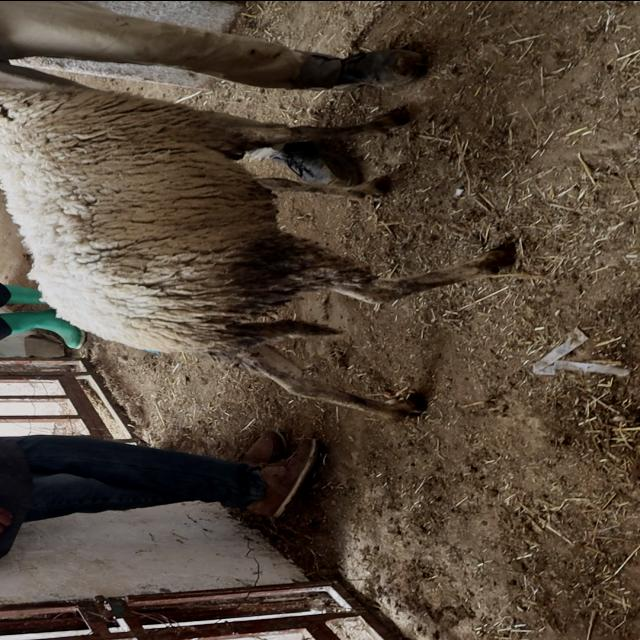Score_4: (0, 84, 514, 419)
